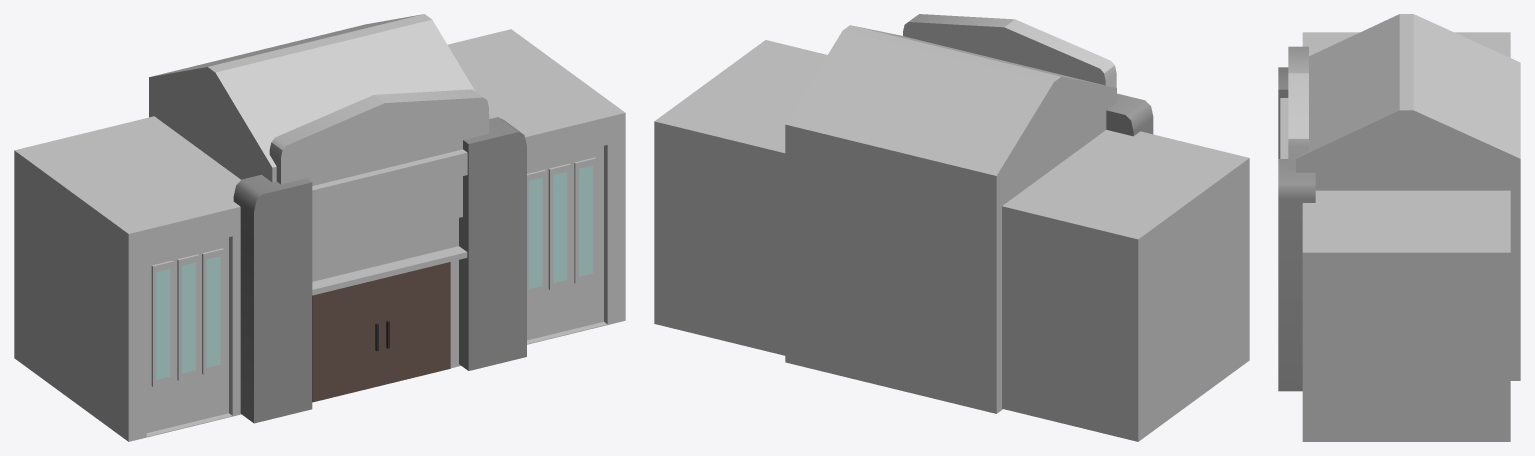
Rendered from stasiun tugu.fbx.
The picture shows the model from 3 angles, left to right: view 1: azimuth 30°, elevation 25°; view 2: azimuth 150°, elevation 25°; view 3: azimuth 270°, elevation 25°; orthographic projection. The views are drawn at different scales.
Visible parts, largest first — view 1: Stasiun_Tugu; view 2: Stasiun_Tugu; view 3: Stasiun_Tugu.
Boxes of the visible parts, <box> form: Stasiun_Tugu: <box>14,14,625,441</box>; Stasiun_Tugu: <box>654,14,1249,441</box>; Stasiun_Tugu: <box>1278,14,1520,441</box>.
Size of the model in its own units: 683 by 391 by 317.
1 material, 1 textured.
